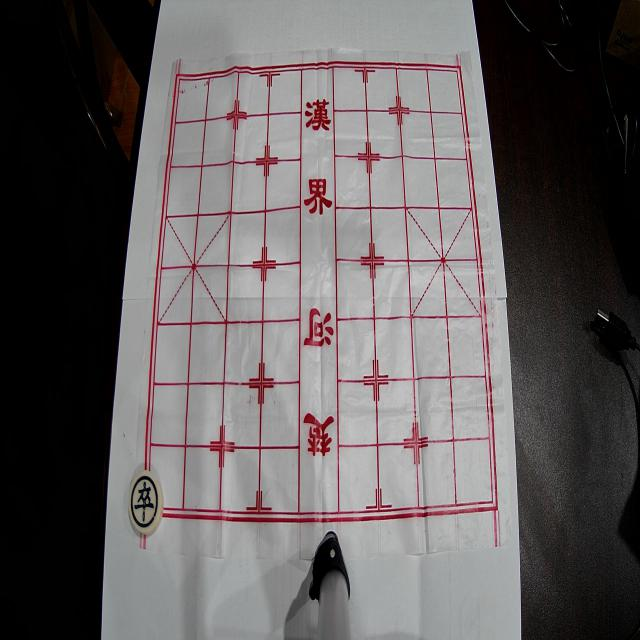black-soldier: (128, 471, 164, 535)
